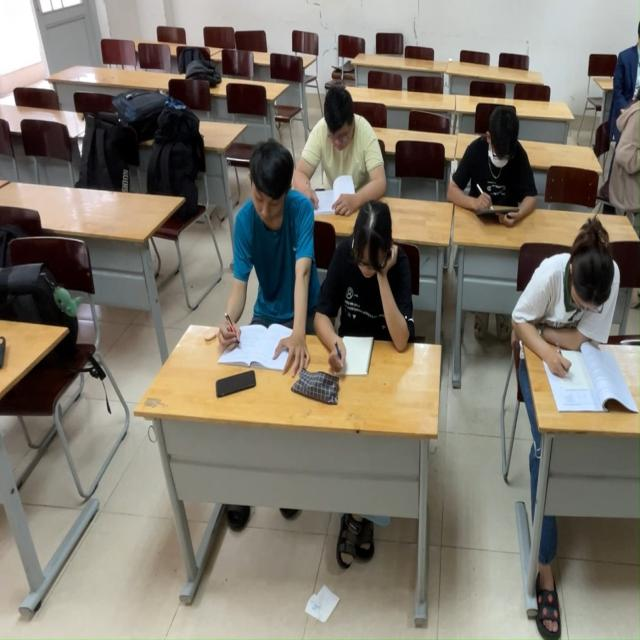read: (512, 208, 628, 433), (316, 206, 418, 366), (218, 165, 291, 371), (458, 105, 546, 235), (302, 83, 375, 213)
